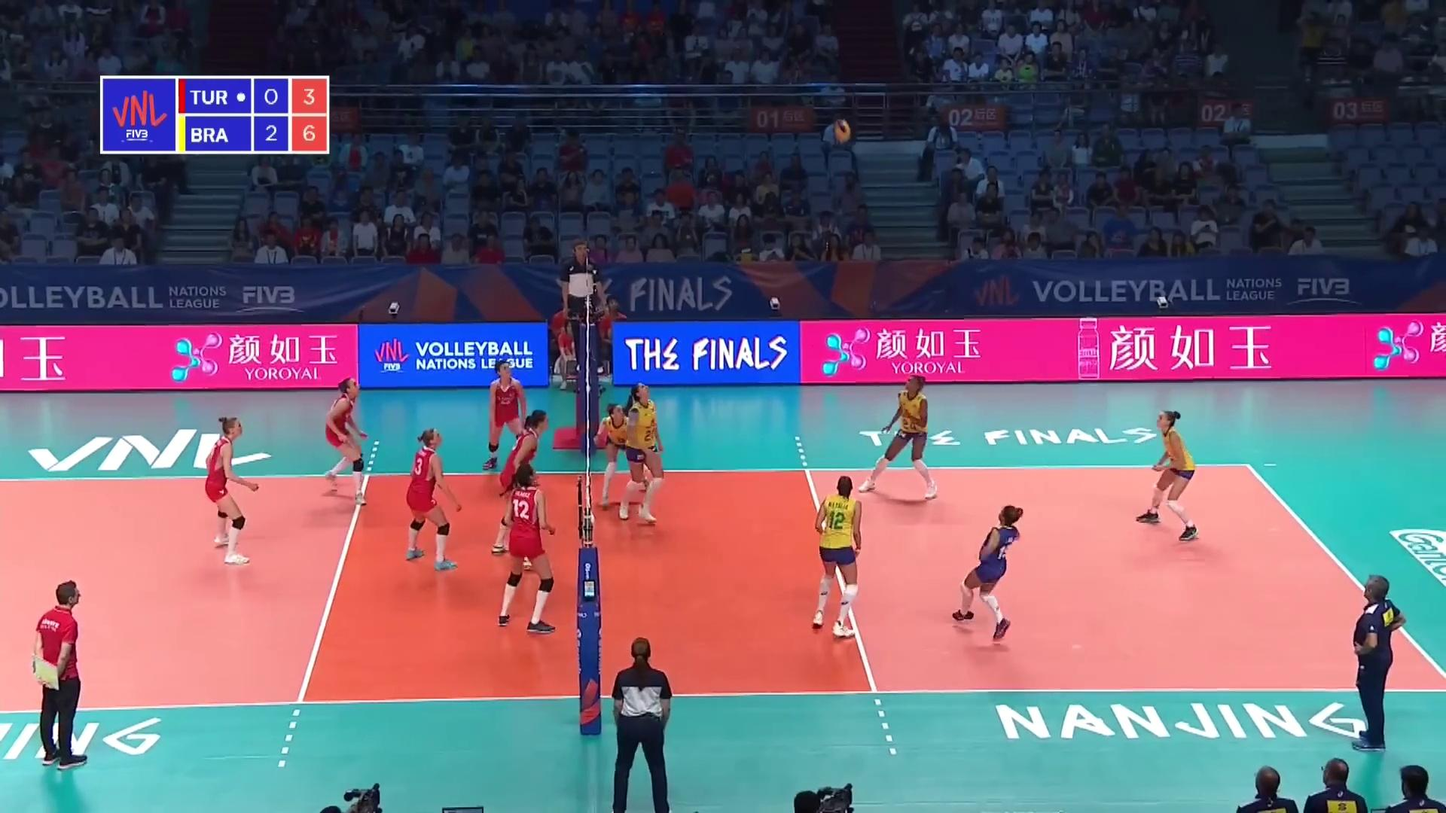player: (858, 374, 939, 496), (498, 465, 552, 633), (201, 417, 262, 564), (811, 477, 867, 637), (955, 505, 1021, 639), (405, 427, 464, 573), (495, 410, 549, 555), (1140, 411, 1198, 542), (320, 376, 377, 503), (484, 361, 539, 481), (621, 381, 664, 525), (596, 403, 654, 507)
refree: (605, 639, 673, 810), (563, 241, 605, 373)
